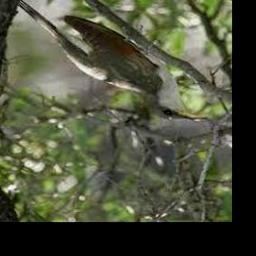Cuckoo: (17, 0, 206, 121)
